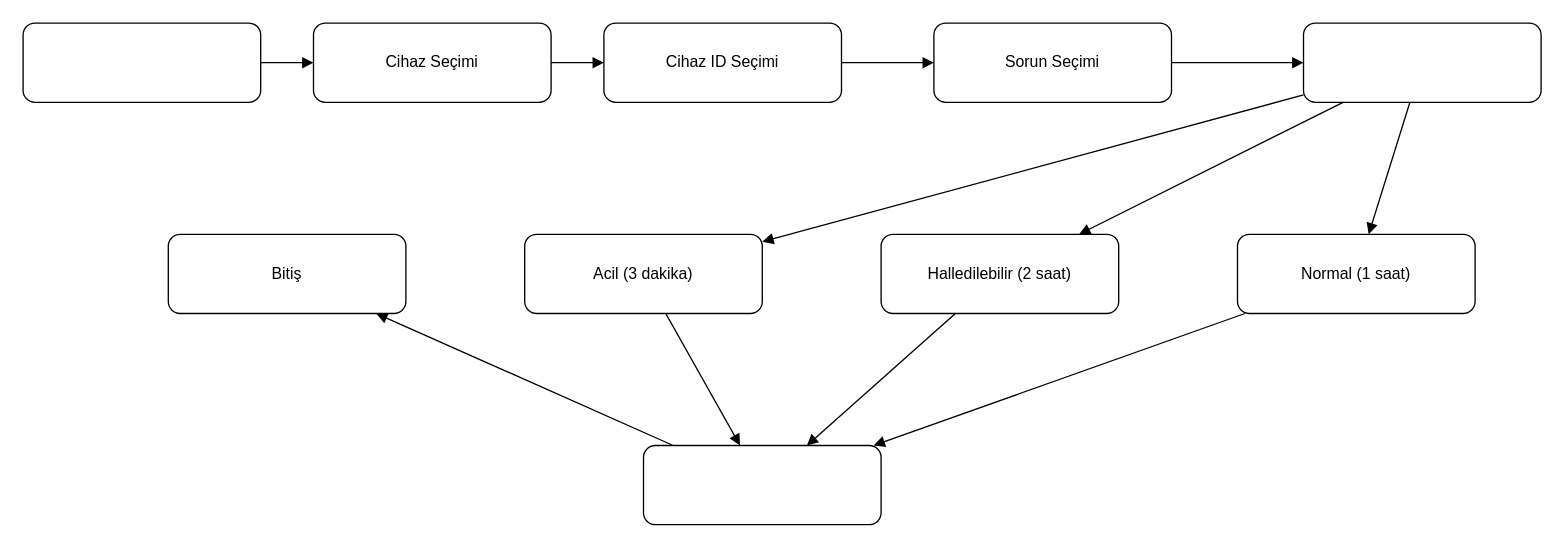
The diagram is 1564 pixels wide and 548 high, and some of its shapes have lost their labels. The shapes that lost their labels are listed below. From the top down, each one's centre as x and y in pixels, then its label:
At point 141,62: "Başlangıç".
At point 1421,62: "Öncelik Seçimi".
At point 761,484: "IT İşaretledi: Çözüldü".
